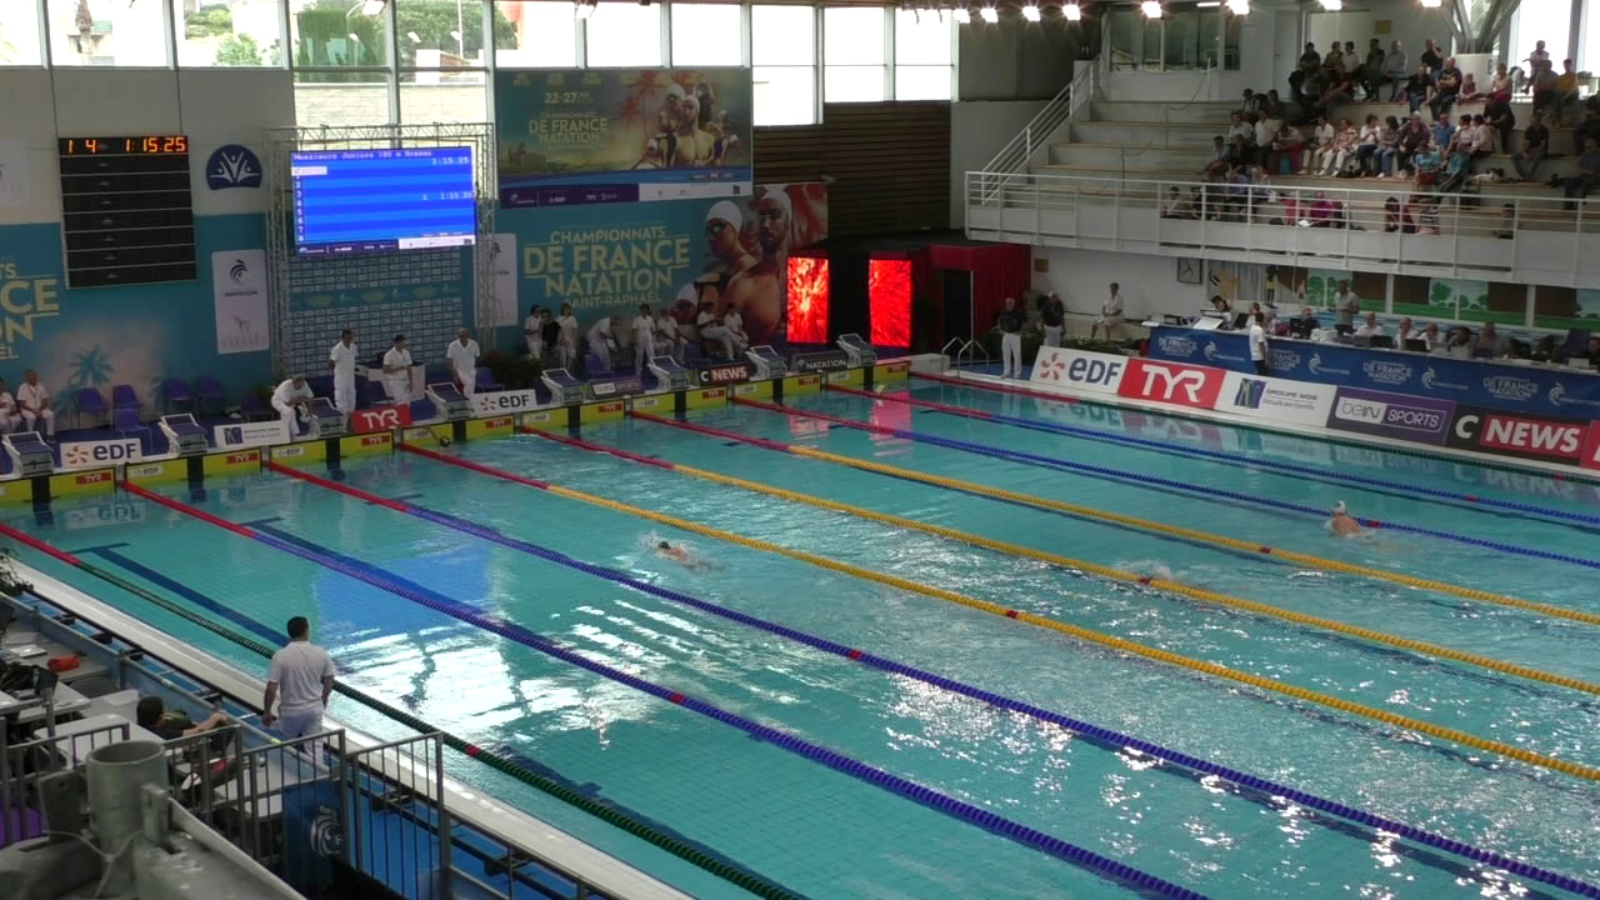swimmerw: (1141, 560, 1235, 605), (1319, 496, 1387, 557), (651, 535, 731, 584), (425, 423, 462, 451)
